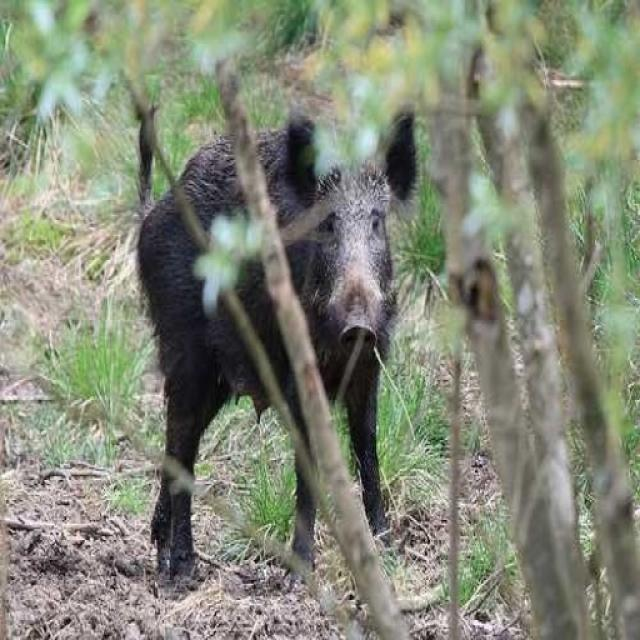pig: (85, 108, 464, 546)
